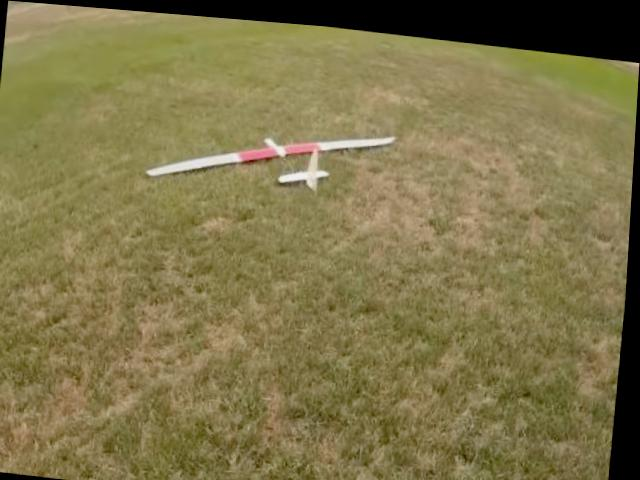uav: (140, 93, 408, 223)
